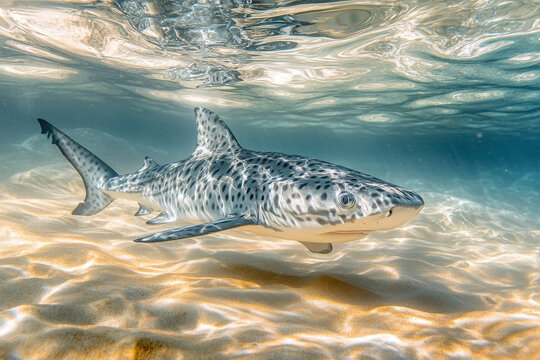Leopard Shark: (16, 94, 463, 312)
